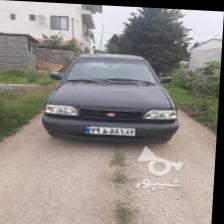plate: (85, 124, 135, 133)
